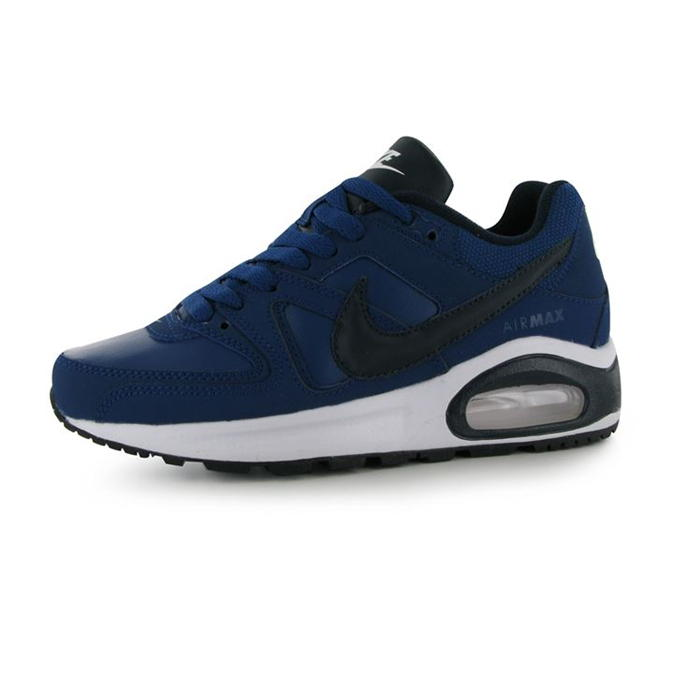nike: (331, 235, 579, 379)
